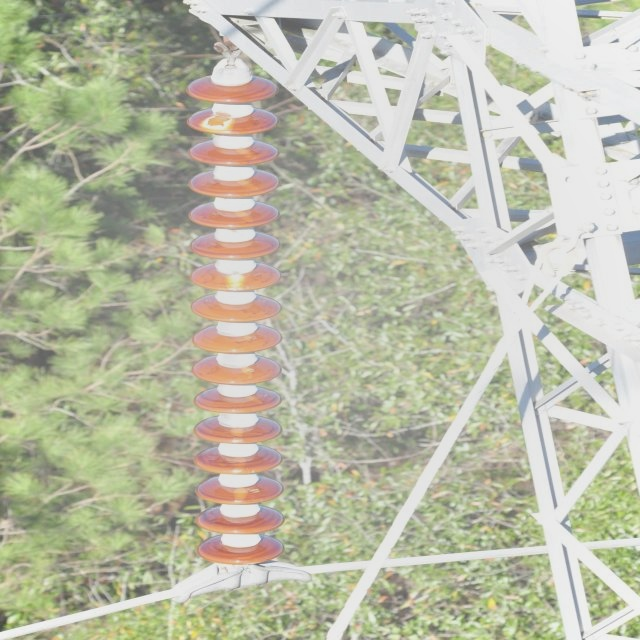insulator: (183, 72, 285, 566)
